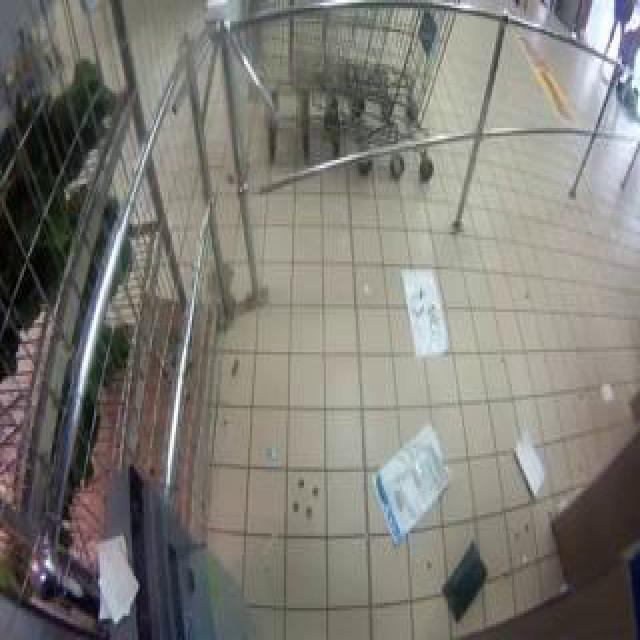shooting: (226, 134, 509, 534)
